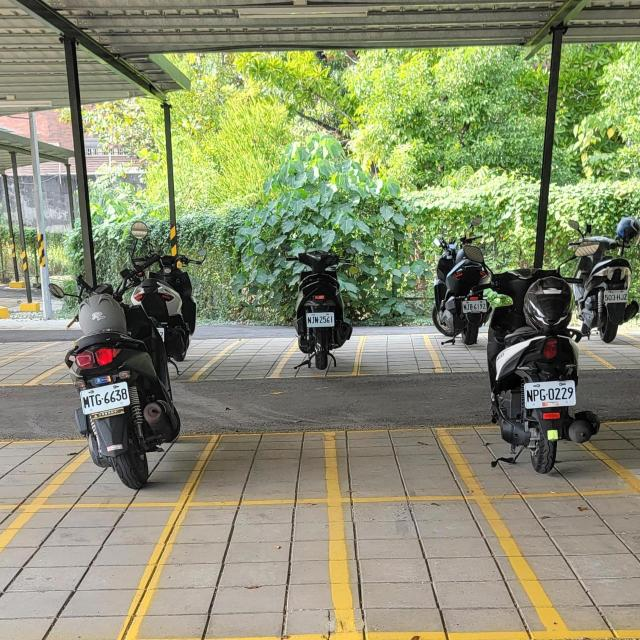W: (521, 379, 579, 410), (78, 382, 132, 414), (302, 310, 337, 328)
